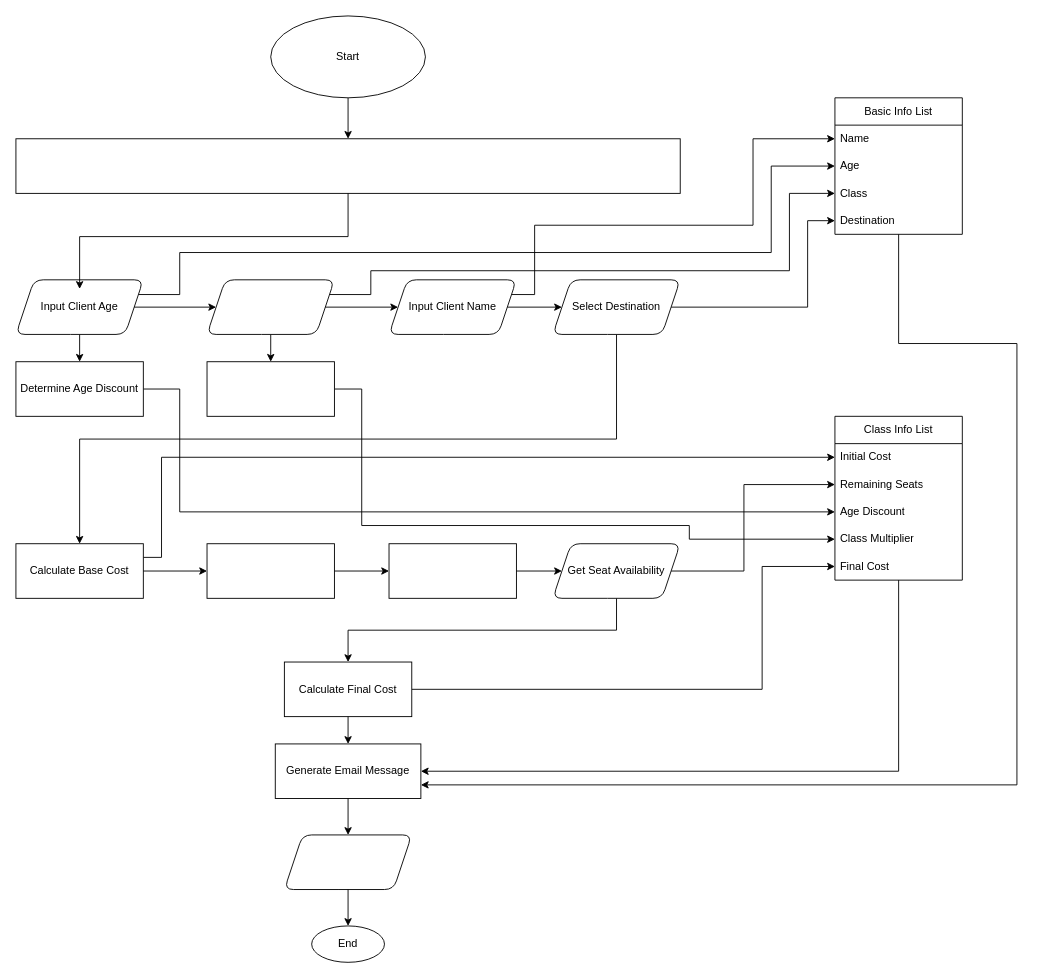
The diagram is 1040 pixels wide and 978 high, and some of its shapes have lost their labels. The centre of each missing label's shape, as x and y in pixels:
"Apply Age Discount" goes at point 452,570.
"Apply Class Multiplier" goes at point 270,570.
"Determine Class Multiplication Value" goes at point 270,388.
"Display Email" goes at point 347,862.
"Get Client Info" goes at point 347,165.
"Select Flight Class" goes at point 270,306.
